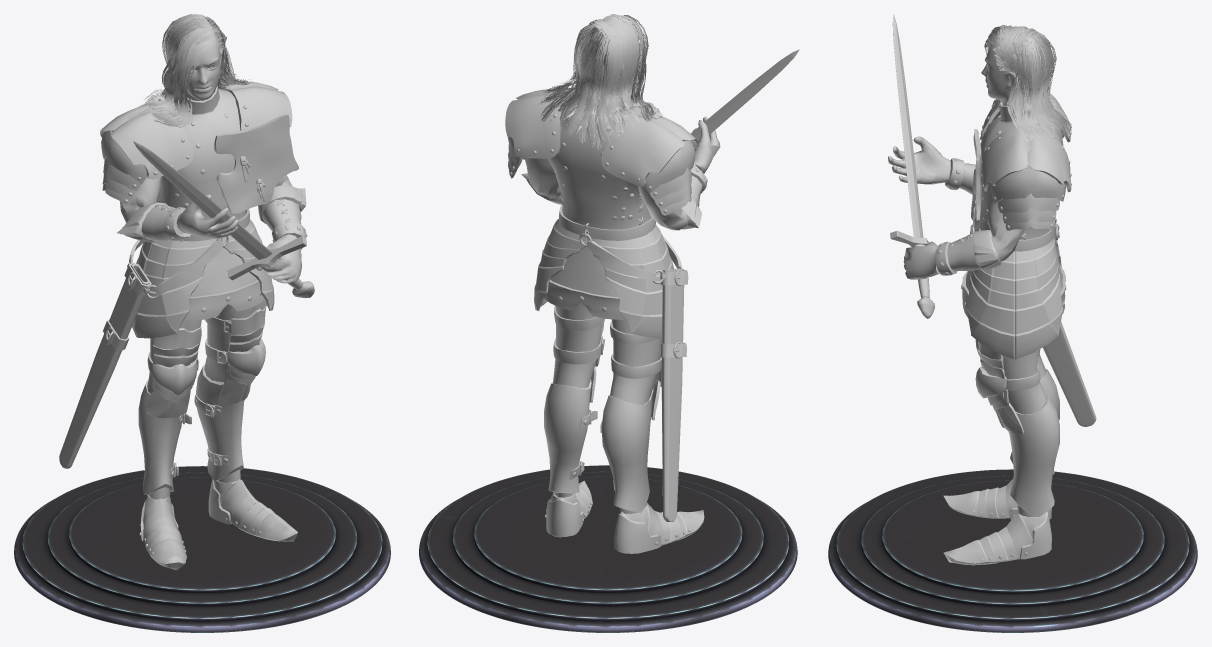
File: mordred_final_with_base.fbx
The picture shows the model from 3 angles, left to right: view 1: azimuth 30°, elevation 25°; view 2: azimuth 150°, elevation 25°; view 3: azimuth 270°, elevation 25°; orthographic projection. The views are drawn at different scales.
Parts seen in each view (by area): view 1: mordred, base, HAIR_higher_res_top_layer1, sword, HAIR_lower_layer; view 2: mordred, base, HAIR_higher_res_top_layer1, HAIR_lower_layer, sword; view 3: mordred, base, HAIR_higher_res_top_layer1, sword, HAIR_lower_layer.
Boxes of the visible parts, bbox=[...] form: mordred: bbox=[59, 21, 307, 570]; base: bbox=[14, 466, 390, 632]; HAIR_higher_res_top_layer1: bbox=[139, 14, 249, 127]; sword: bbox=[133, 141, 314, 298]; HAIR_lower_layer: bbox=[138, 22, 251, 121]; mordred: bbox=[505, 24, 720, 553]; base: bbox=[419, 465, 797, 632]; HAIR_higher_res_top_layer1: bbox=[537, 14, 661, 150]; HAIR_lower_layer: bbox=[537, 21, 664, 145]; sword: bbox=[690, 49, 799, 141]; mordred: bbox=[888, 32, 1096, 565]; base: bbox=[828, 469, 1197, 632]; HAIR_higher_res_top_layer1: bbox=[984, 25, 1071, 146]; sword: bbox=[890, 14, 938, 318]; HAIR_lower_layer: bbox=[989, 32, 1069, 144].
Size of the model in its own units: 155 by 243 by 155.
